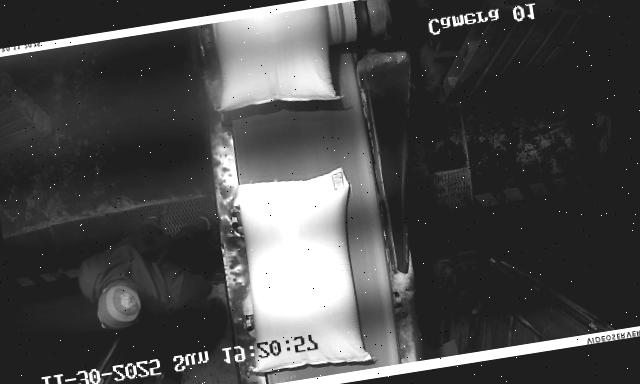bag: (225, 166, 379, 377), (206, 4, 343, 117)
